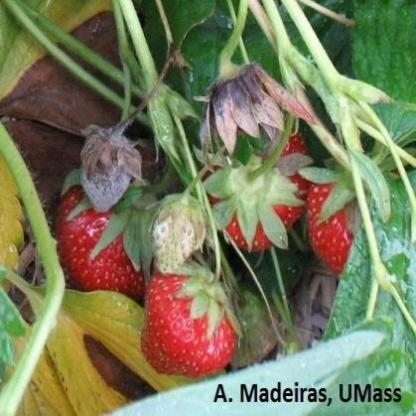Strawberry_Gray_Mold: (80, 126, 141, 213)
